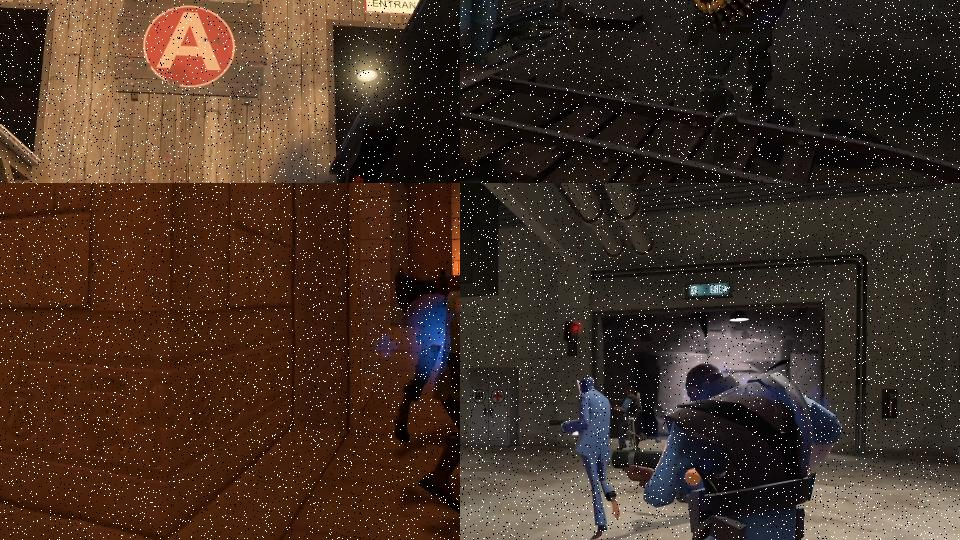Enemy: (647, 365, 842, 540), (642, 0, 842, 158), (395, 258, 460, 502), (549, 374, 621, 537), (612, 386, 644, 448)
